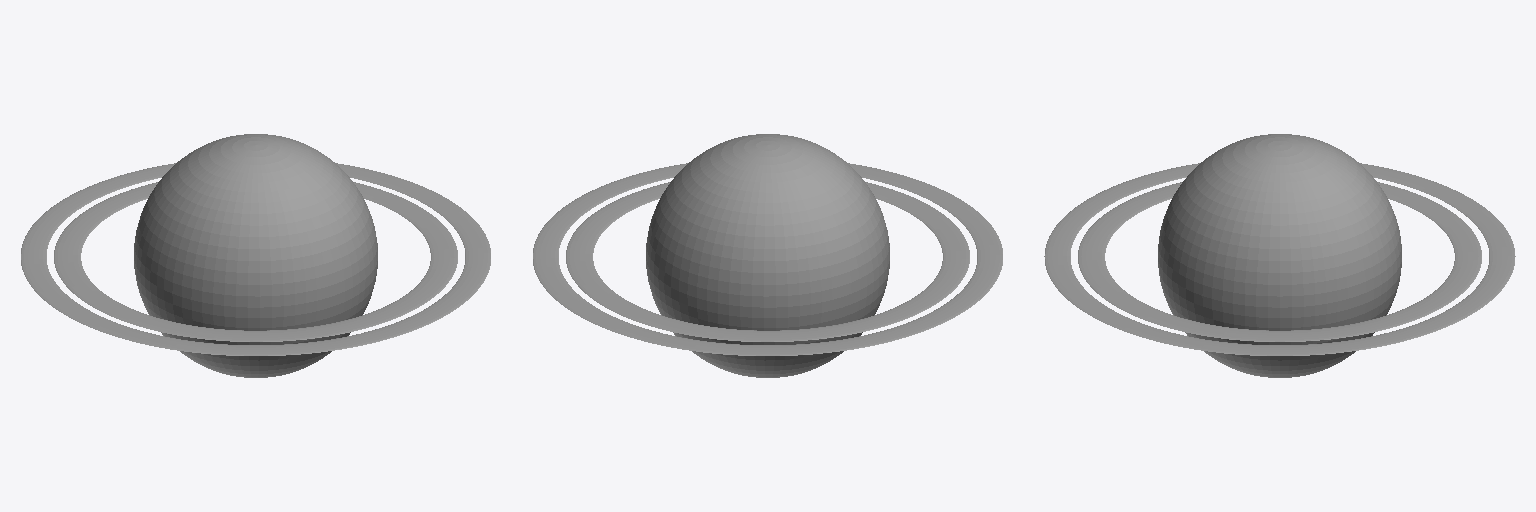
The model's file is planet_9.obj.
3 views of the same model, side by side, from view 1: azimuth 30°, elevation 25°; view 2: azimuth 150°, elevation 25°; view 3: azimuth 270°, elevation 25° (orthographic).
Parts seen in each view (by area): view 1: Circle; view 2: Circle; view 3: Circle.
Part boxes in pixels (x1,y1,x2,y2): Circle: (21, 134, 490, 377); Circle: (533, 134, 1002, 377); Circle: (1044, 134, 1515, 377).
Size of the model in its own units: 11.56 by 6 by 11.56.